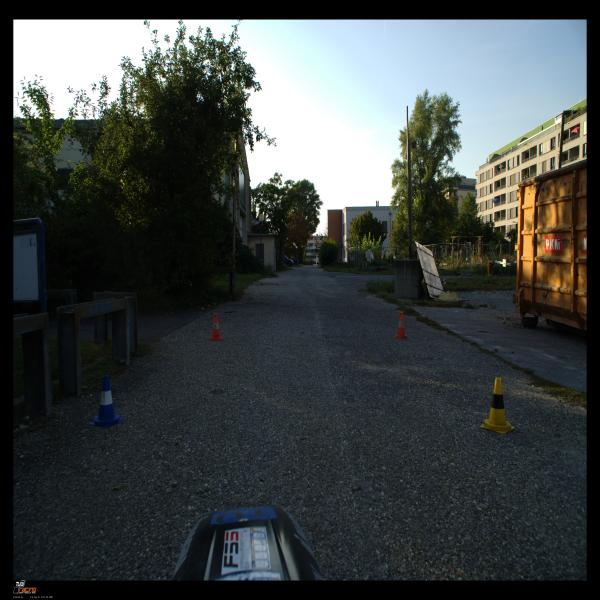blue_cone: (90, 375, 124, 427)
orange_cone: (394, 312, 409, 339), (209, 313, 222, 341)
yellow_cone: (480, 377, 515, 434)
